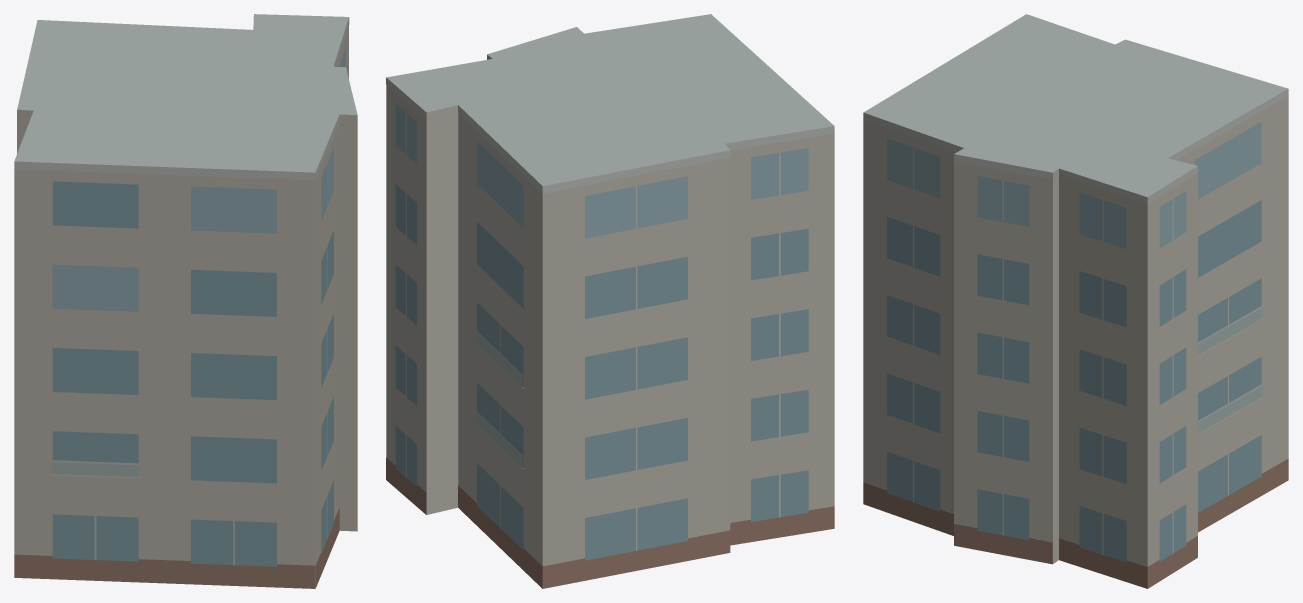
Rendered from survey-upis-32801238.glb.
3 views of the same model, side by side, from view 1: azimuth 30°, elevation 25°; view 2: azimuth 150°, elevation 25°; view 3: azimuth 270°, elevation 25° (orthographic). The views are drawn at different scales.
Parts seen in each view (by area): view 1: survey-upis-32801238.tmp; view 2: survey-upis-32801238.tmp; view 3: survey-upis-32801238.tmp.
Part boxes in pixels (x1,y1,x2,y2): survey-upis-32801238.tmp: (14, 14, 357, 588); survey-upis-32801238.tmp: (386, 14, 834, 588); survey-upis-32801238.tmp: (863, 14, 1288, 588).
Size of the model in its own units: 13.31 by 13.25 by 13.05.
